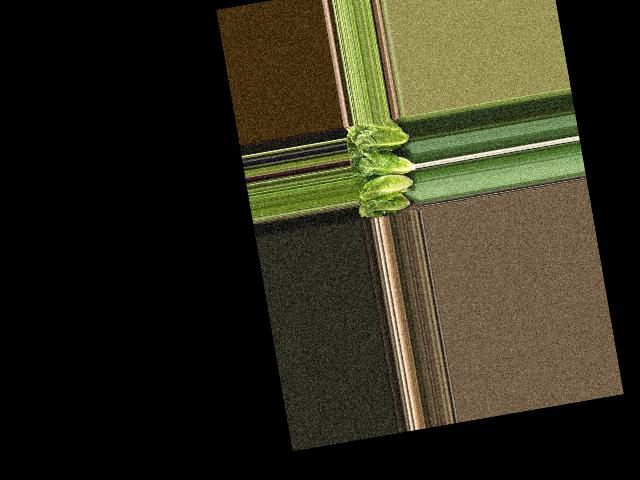lettuce: (357, 193, 409, 216)
